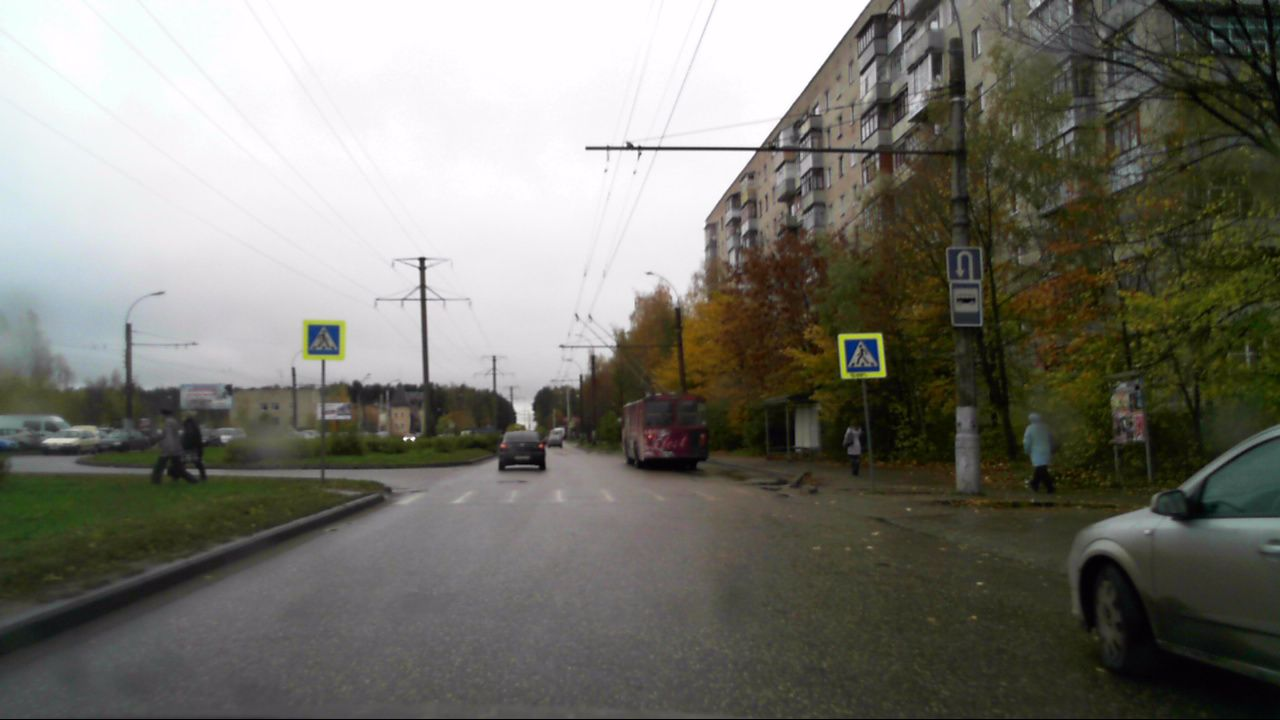Pedestrian Crossing: (845, 340, 880, 372), (308, 324, 340, 353)
U-turn: (948, 248, 983, 281)
